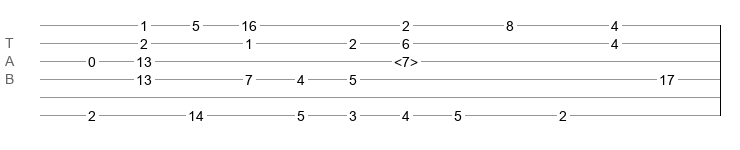0: (88, 54, 96, 64)
1: (140, 18, 148, 28), (245, 36, 253, 46)
13: (136, 72, 152, 82), (136, 54, 152, 64)
14: (188, 108, 204, 118)
16: (241, 18, 257, 28)
17: (659, 72, 675, 82)
2: (88, 108, 96, 118), (140, 36, 148, 46), (349, 36, 357, 46), (402, 18, 410, 28), (559, 108, 567, 118)
3: (349, 108, 357, 118)
4: (297, 72, 305, 82), (402, 108, 410, 118), (611, 18, 619, 28), (611, 36, 619, 46)
5: (192, 18, 200, 28), (297, 108, 305, 118), (349, 72, 357, 82), (454, 108, 462, 118)
6: (402, 36, 410, 46)
7: (245, 72, 253, 82)
8: (506, 18, 514, 28)
harmonic: (394, 54, 418, 64)
